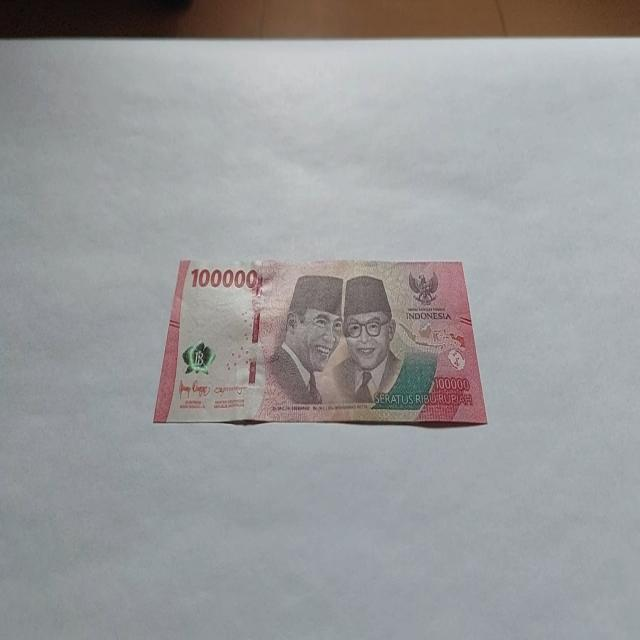seratus ribu rupiah: (152, 256, 488, 428), (267, 273, 344, 407), (328, 274, 404, 404)
